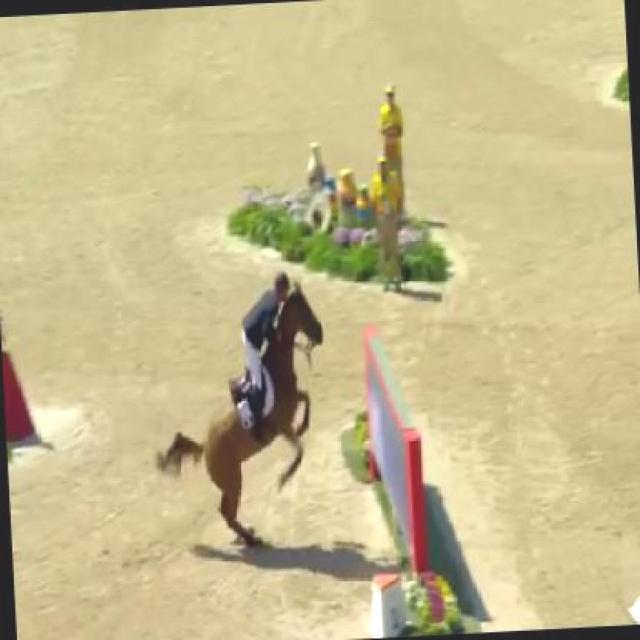non-fight: (189, 262, 329, 546)
